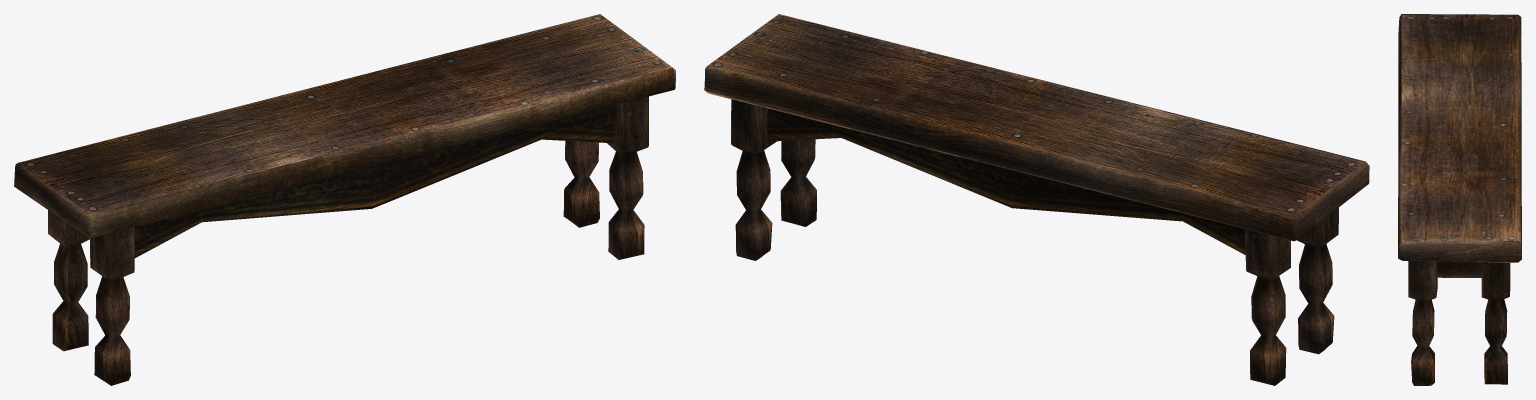
Rendered from Dinner_stool.obj.
The picture shows the model from 3 angles, left to right: view 1: azimuth 30°, elevation 25°; view 2: azimuth 150°, elevation 25°; view 3: azimuth 270°, elevation 25°; orthographic projection. The views are drawn at different scales.
Visible parts, largest first — view 1: dinner_stool; view 2: dinner_stool; view 3: dinner_stool.
Boxes of the visible parts, x1,y1,x2,y2 form: dinner_stool: [14, 14, 675, 385]; dinner_stool: [704, 14, 1369, 385]; dinner_stool: [1398, 14, 1521, 385].
Bounding box in the file's own units: 188 × 57.47 × 42.08.
